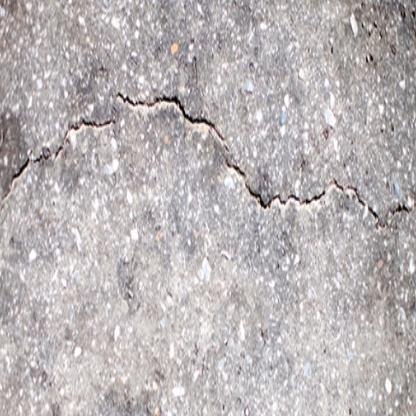Cracks: (223, 158, 416, 234), (0, 117, 121, 206), (115, 89, 230, 147), (0, 239, 6, 267)
